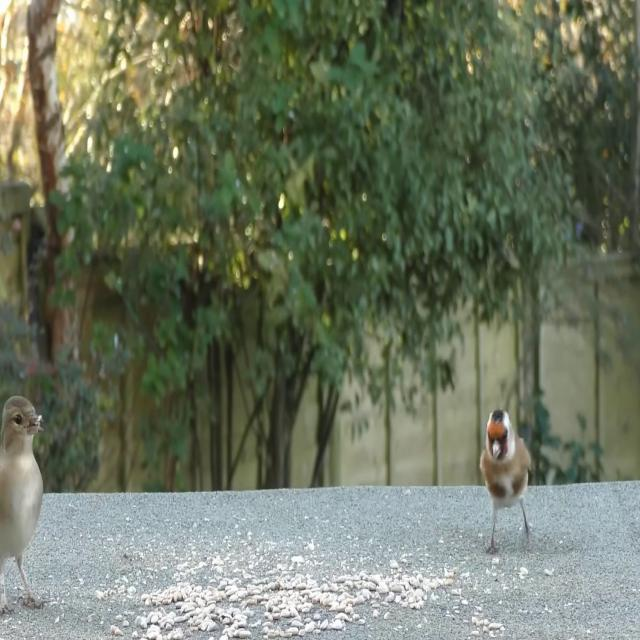beak: (23, 407, 47, 440), (489, 442, 506, 462)
bird: (0, 388, 46, 626), (471, 409, 542, 559)
